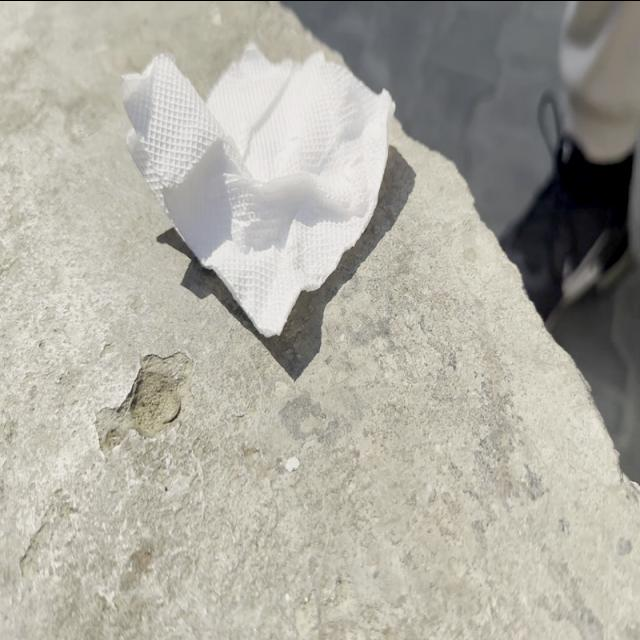tissue: (122, 29, 398, 341)
